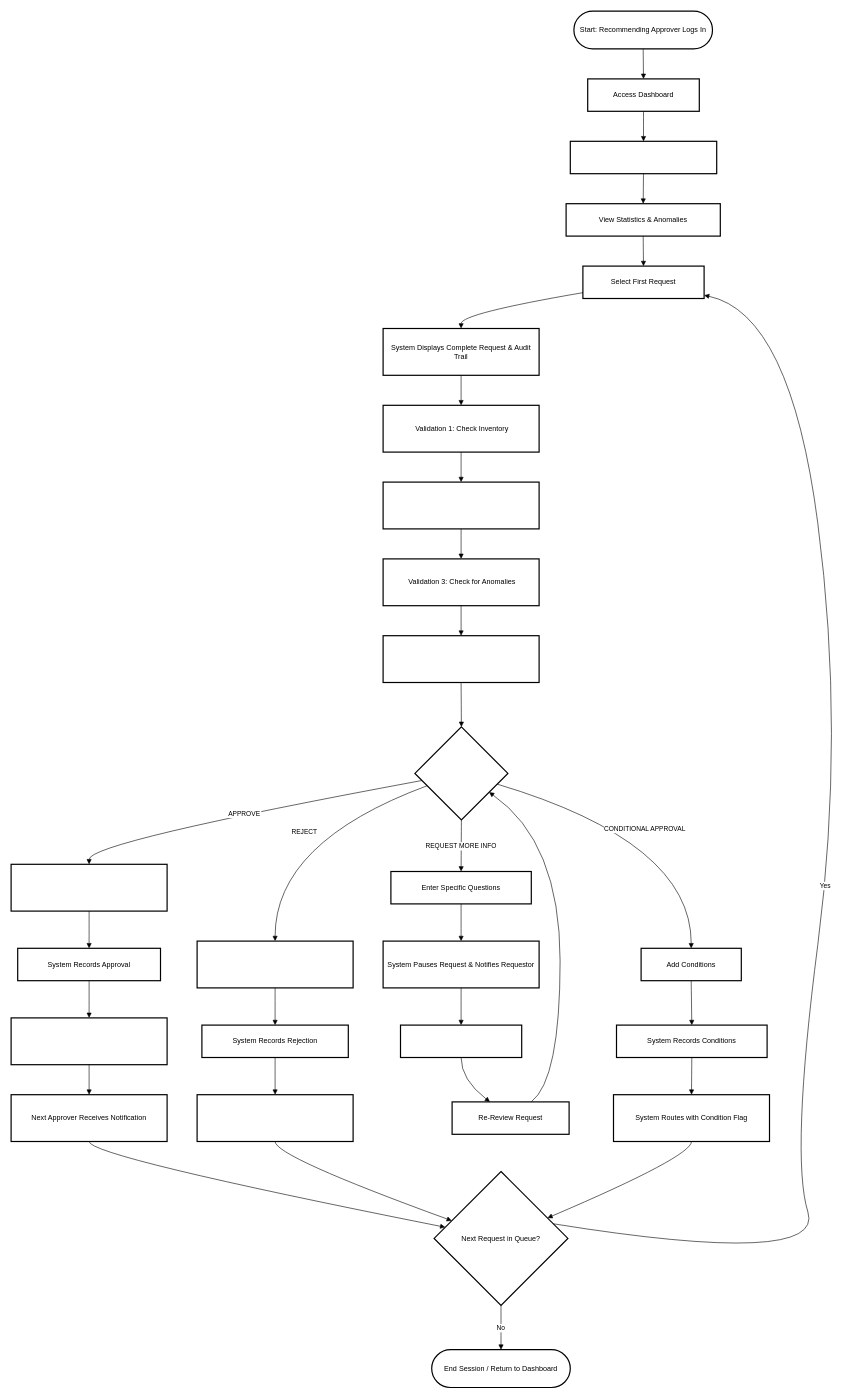
Image size: 842x1398. Some labels were removed from this diagram. Here are the shapes that lost their labels. From the top down, the centre of each, then its label:
point 643,157: System Auto-Loads Queue
point 460,505: Validation 2: Check Budget/Cost
point 460,659: Validation 4: Technical Assessment
point 461,773: Decision Point
point 88,887: Add Detailed Technical Assessment
point 274,964: Select Reason & Add Explanation
point 88,1041: Auto-Routes to President/CEO or OIC
point 461,1041: Requestor Responds
point 274,1118: System Notifies Requestor & Dept Head
